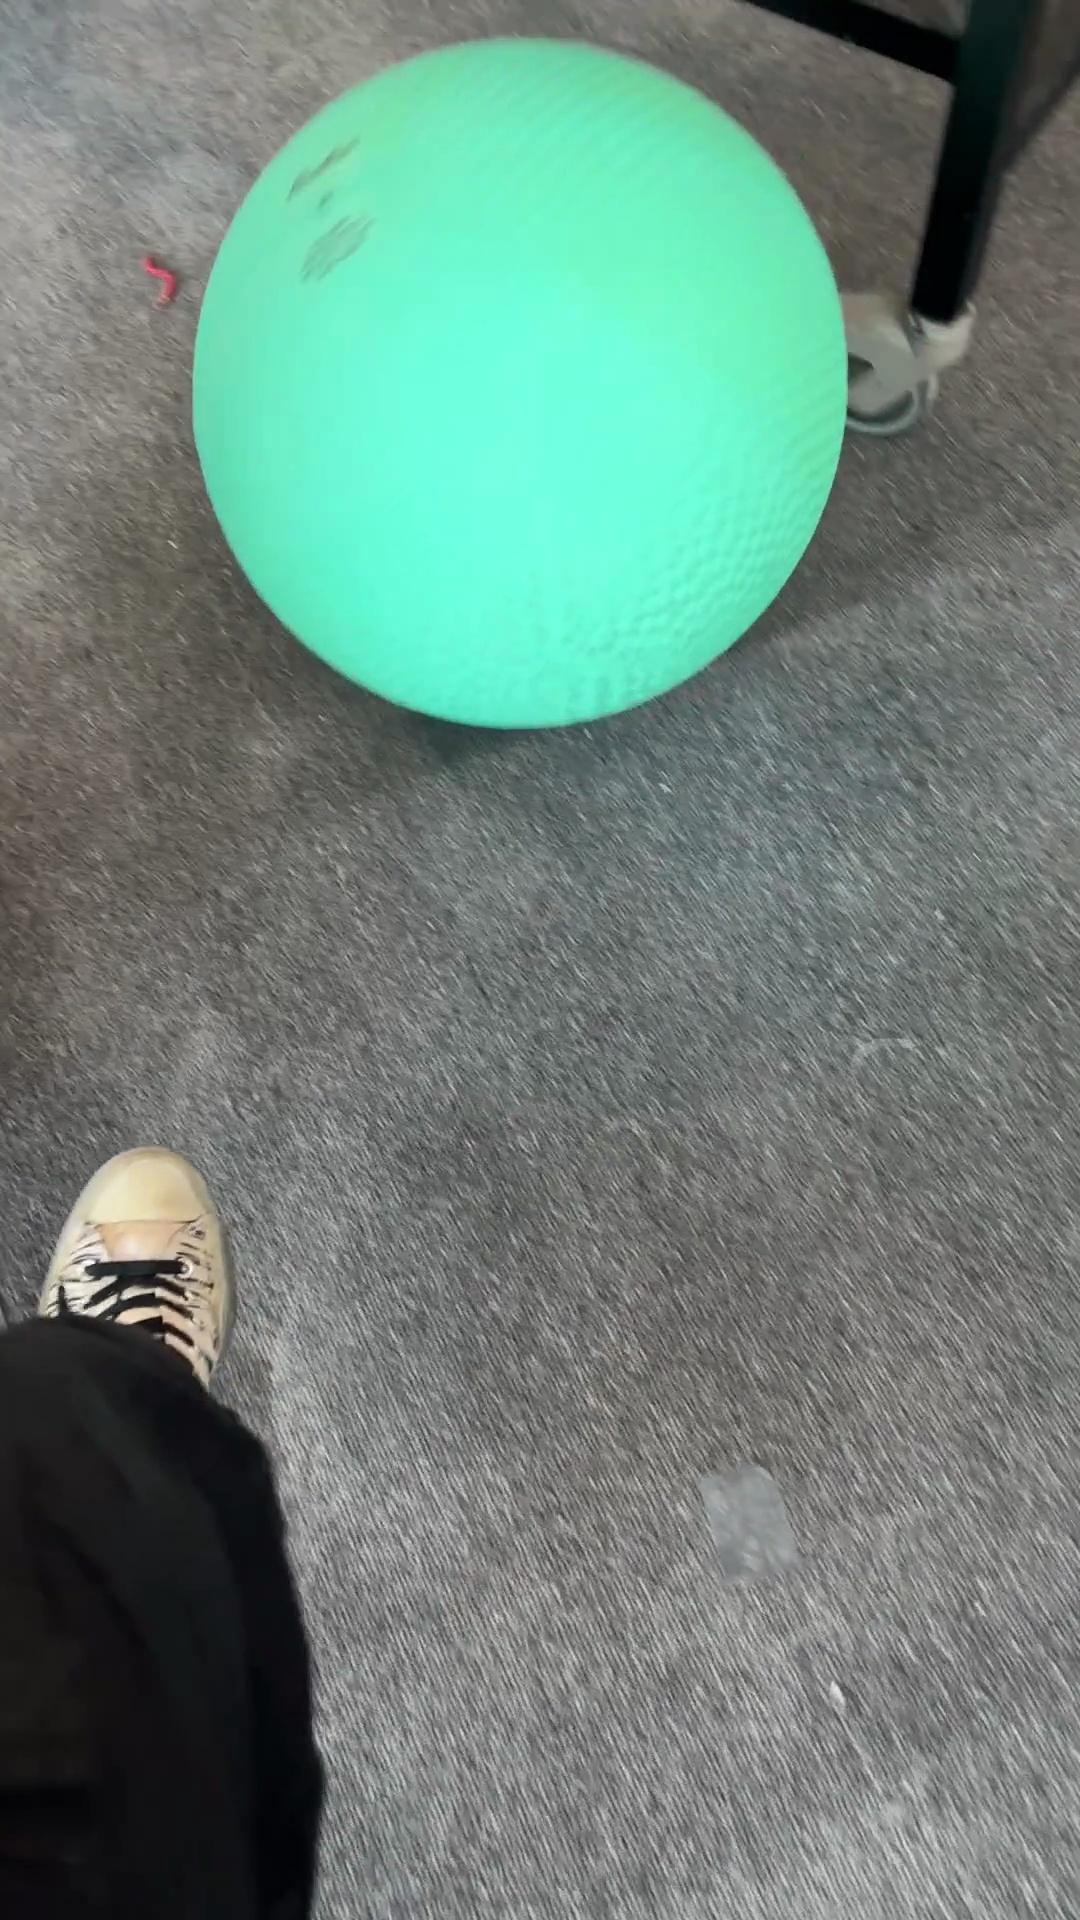ALGAE: (187, 34, 851, 732)
